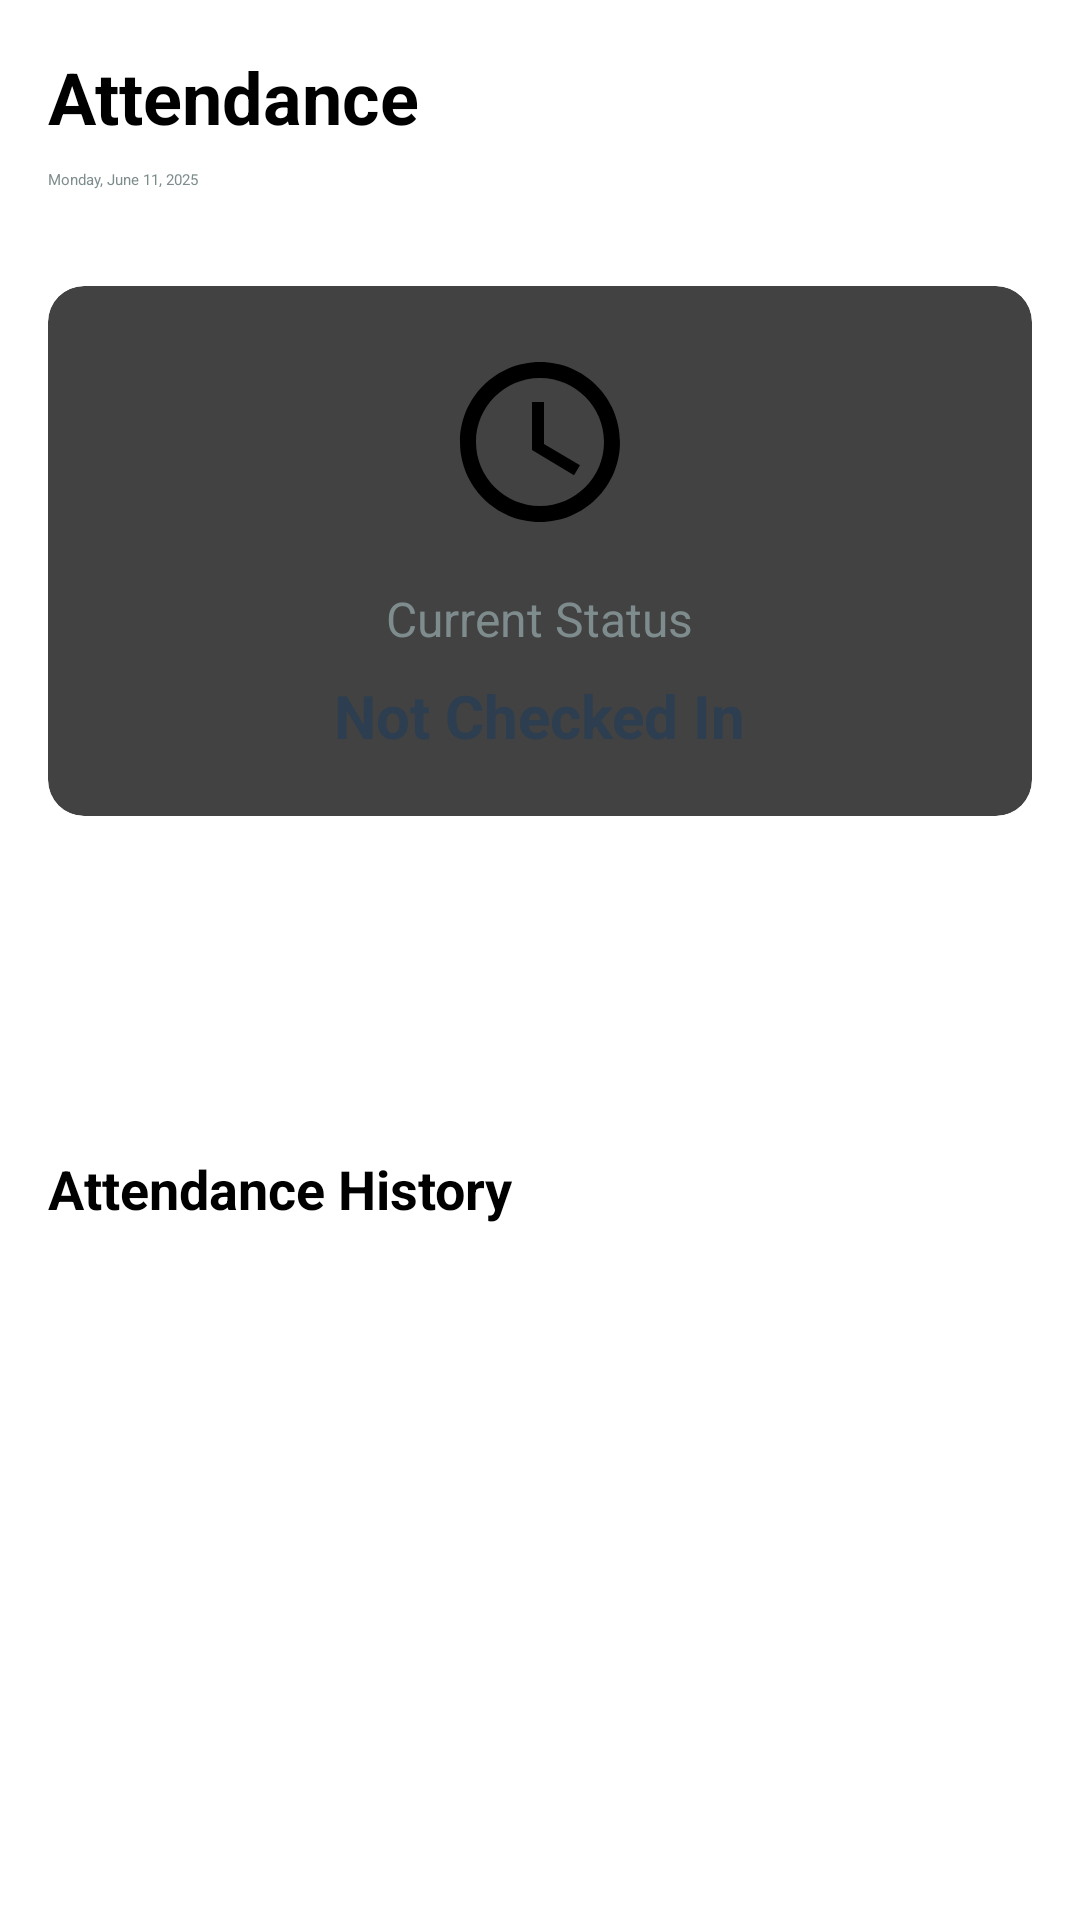

Point at icon controls on the screen. Image size 1080w x 1920h, points as point (x, y).
attendance status: point (540, 442)
